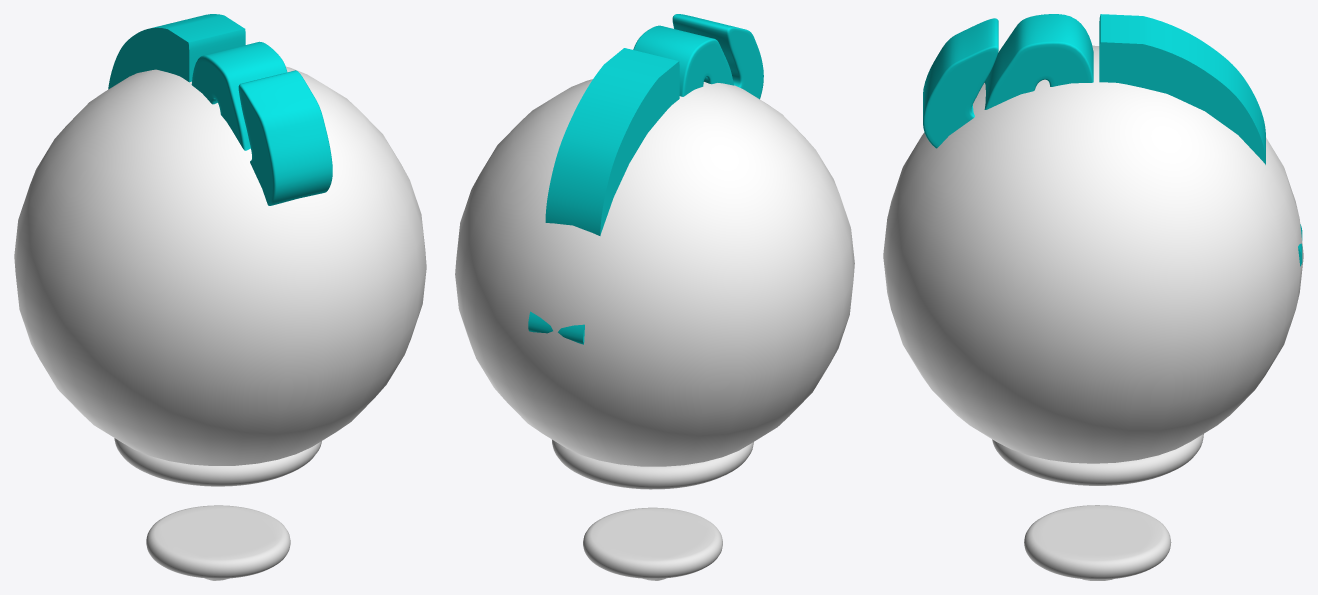
Rendered from bulb.glb.
3 renders of one model, left to right at view 1: azimuth 30°, elevation 25°; view 2: azimuth 150°, elevation 25°; view 3: azimuth 270°, elevation 25°, orthographic. The views are drawn at different scales.
Parts seen in each view (by area): view 1: Sphere, Text.002, Cylinder.001, Cube, Cylinder; view 2: Sphere, Cube, Cylinder.001, Text.002, Cylinder; view 3: Sphere, Text.002, Cube, Cylinder.001, Cylinder.
Part boxes in pixels (x1,y1,x2,y2): Sphere: [14, 66, 426, 465]; Text.002: [191, 41, 332, 205]; Cylinder.001: [146, 505, 290, 580]; Cube: [108, 14, 245, 89]; Cylinder: [114, 438, 321, 486]; Sphere: [455, 79, 854, 466]; Cube: [528, 48, 679, 344]; Cylinder.001: [583, 507, 722, 580]; Text.002: [633, 14, 763, 99]; Cylinder: [552, 439, 753, 489]; Sphere: [883, 45, 1303, 463]; Text.002: [923, 14, 1093, 148]; Cube: [1099, 14, 1302, 266]; Cylinder.001: [1024, 505, 1171, 580]; Cylinder: [992, 434, 1203, 485].
Size of what is drawn, in the model's own units: 0.0587 by 0.0844 by 0.0587.
